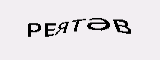Б: (44, 16, 58, 39)
Е: (57, 19, 71, 39)
Т: (98, 13, 114, 39)
Ю: (71, 17, 86, 39)
Я: (83, 15, 98, 41)
